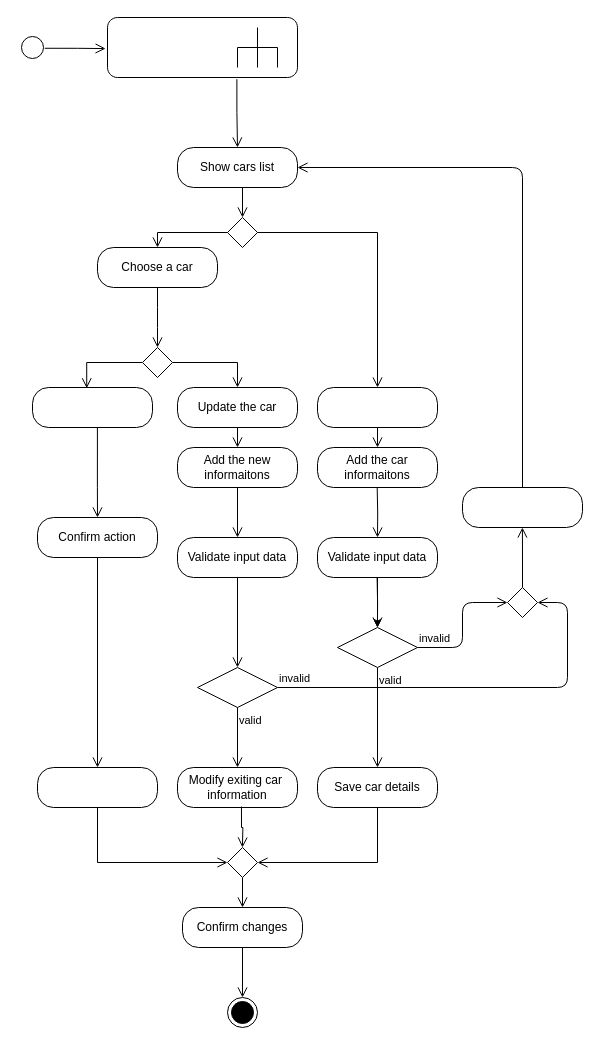
Some shapes in this 600 by 1045 pixel diagram are drawn without their labels. Each missing label, with the centre of its shape:
Add new car: the point at 377,407
Delete car entry: the point at 97,787
login: the point at 202,47
Remove the car: the point at 92,407
Show error message: the point at 522,507
